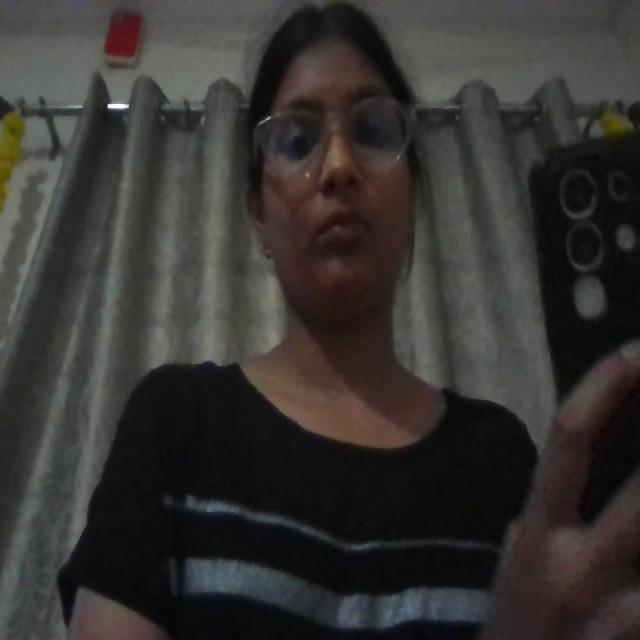phone: (530, 136, 639, 392)
